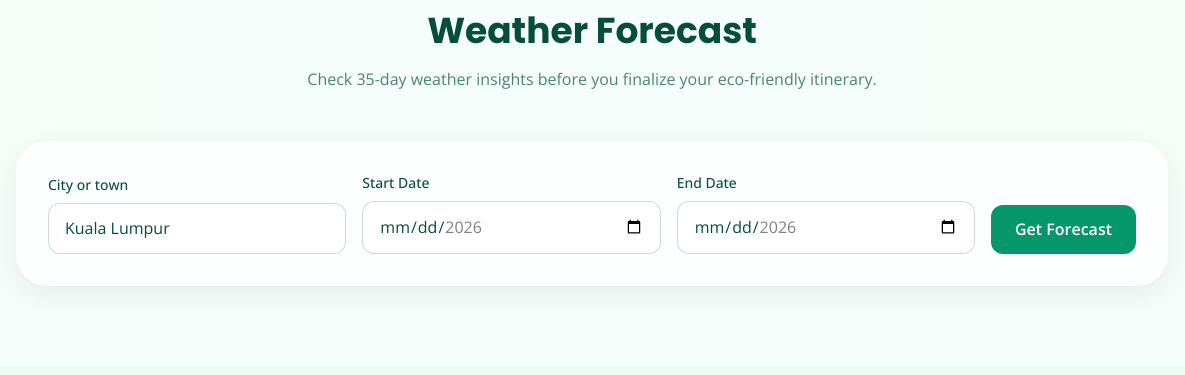
it: WeatherForecastSection › validates blank city searches without fetching
This screenshot has width=1185, height=375.
Clear the field labelled "City or town": (197, 228) [48, 203, 346, 254]
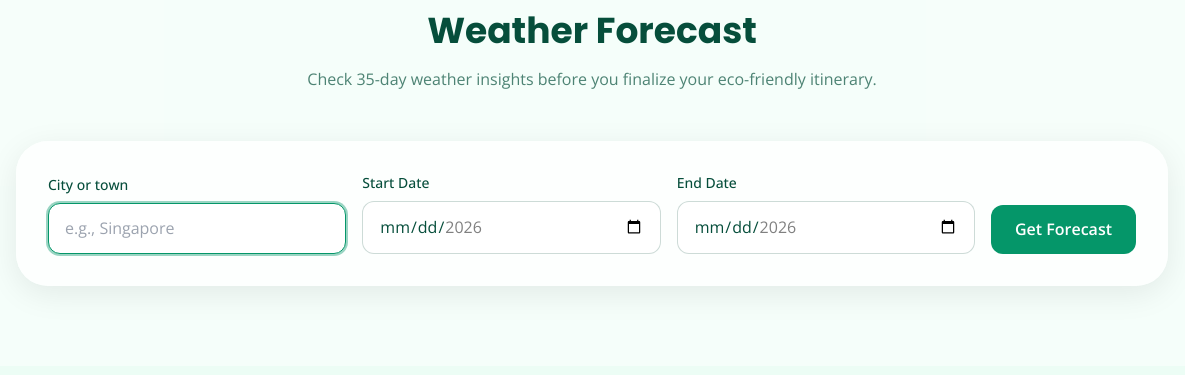
Click the button "Get Forecast": (1063, 229) [991, 205, 1136, 254]
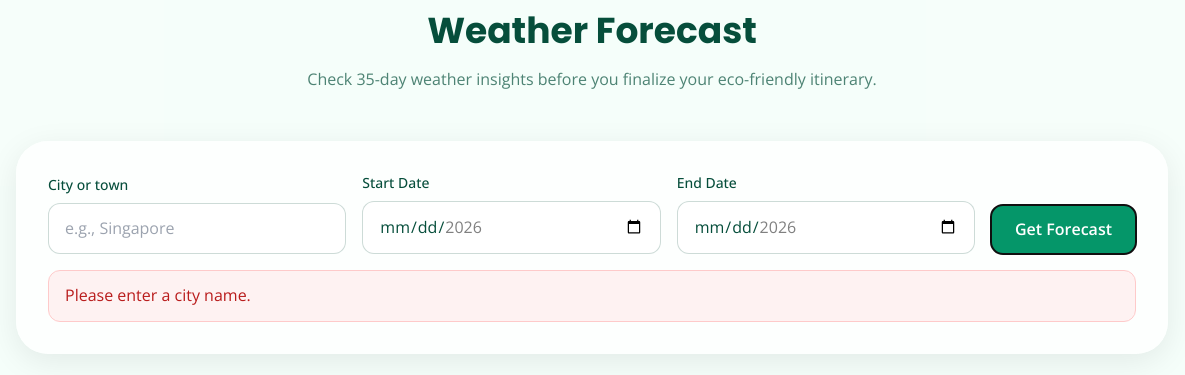
Result: the text "Please enter a city name." is shown at [48, 270, 1136, 322]
